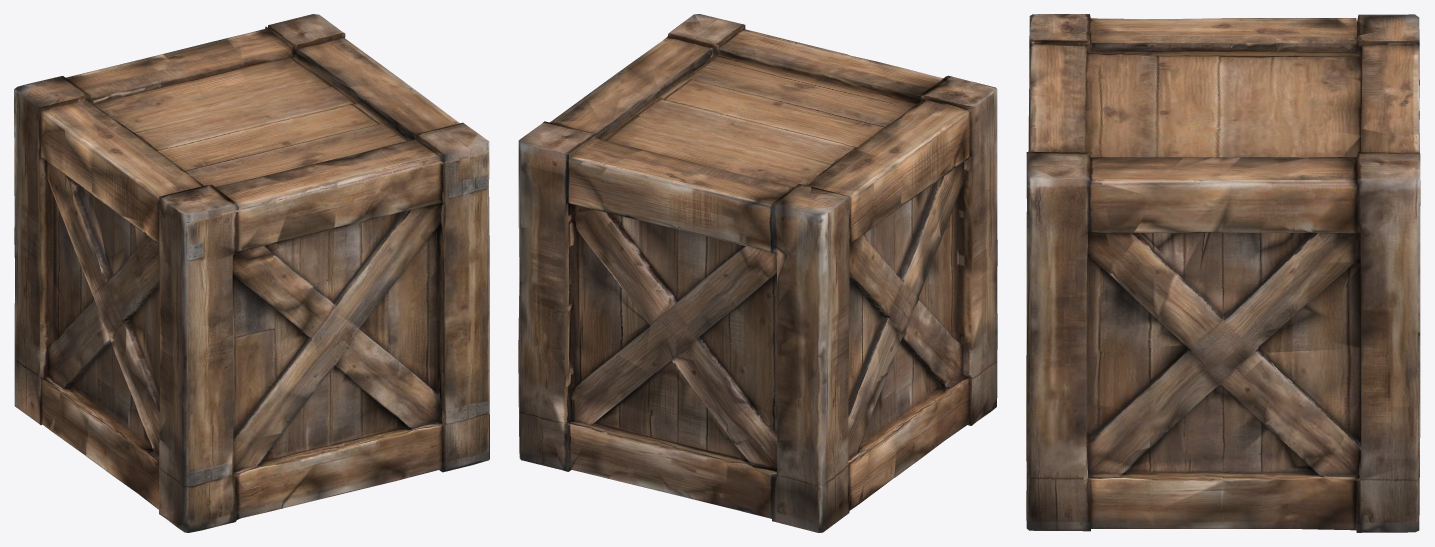
Rendered from crate.glb.
3 views of the same model, side by side, from view 1: azimuth 30°, elevation 25°; view 2: azimuth 150°, elevation 25°; view 3: azimuth 270°, elevation 25° (orthographic). The views are drawn at different scales.
Size of the model in its own units: 0.6065 by 0.5997 by 0.6064.
1 material, 1 textured.
